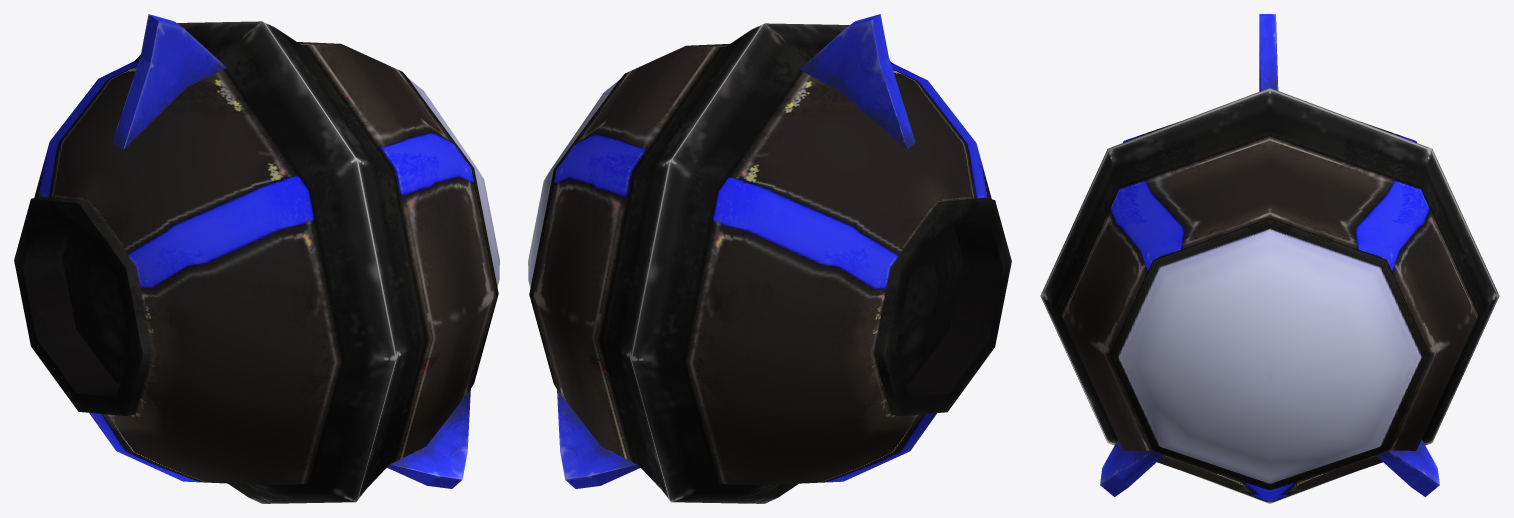
The model's file is big_ship_01.fbx.
3 renders of one model, left to right at view 1: azimuth 30°, elevation 25°; view 2: azimuth 150°, elevation 25°; view 3: azimuth 270°, elevation 25°, orthographic. The views are drawn at different scales.
Parts seen in each view (by area): view 1: big_ship_01; view 2: big_ship_01; view 3: big_ship_01.
Part boxes in pixels (bbox=[...]): big_ship_01: bbox=[14, 14, 499, 503]; big_ship_01: bbox=[528, 14, 1011, 503]; big_ship_01: bbox=[1040, 14, 1499, 503].
Bounding box in the file's own units: 1.53 × 1.92 × 1.8.
